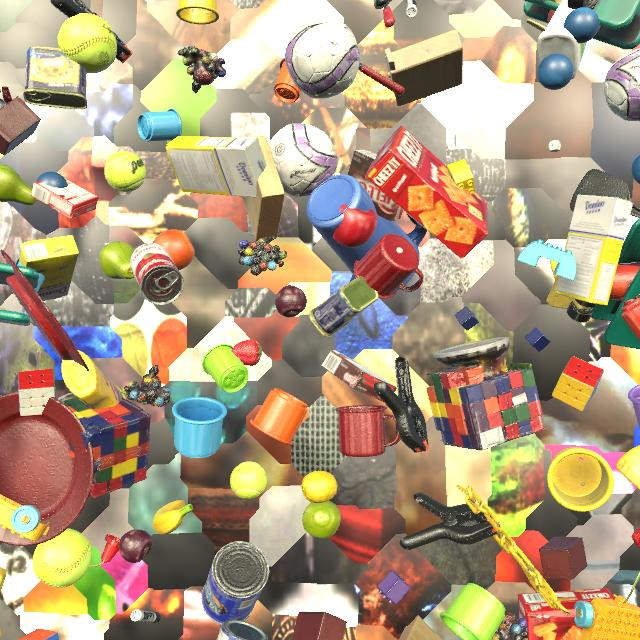ycb_002_master_chef_can: (201, 541, 269, 625)
ycb_003_cracker_box: (365, 126, 488, 259), (518, 588, 615, 640)
ycb_004_sugar_box: (554, 195, 633, 306), (166, 136, 267, 197), (18, 235, 79, 305)
ycb_005_tomato_soup_can: (130, 243, 184, 305)
ycb_006_mustard_bottle: (61, 350, 126, 409), (616, 445, 640, 490), (0, 567, 7, 592)
ycb_007_tuna_fish_can: (216, 619, 268, 640)
ycb_008_pudding_box: (348, 149, 403, 222), (321, 350, 397, 402)
ycb_009_gelatin_box: (31, 178, 99, 219)
ycb_010_potted_meat_can: (309, 277, 378, 337), (23, 46, 87, 110)
ycb_011_banana: (153, 500, 193, 535)
ycb_012_strawberry: (231, 339, 262, 366)
ycb_013_apple: (333, 204, 378, 248)
ycb_014_lemon: (301, 471, 338, 503)
ycb_016_pear: (0, 164, 38, 205), (302, 500, 341, 539), (99, 242, 135, 279)
ycb_017_orange: (153, 229, 195, 270)
ycb_018_plum: (119, 529, 152, 563), (275, 285, 307, 317)
